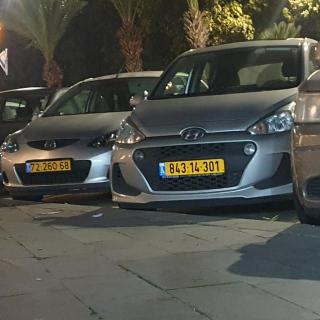LicensePlate: (165, 159, 224, 175), (30, 160, 70, 172)
